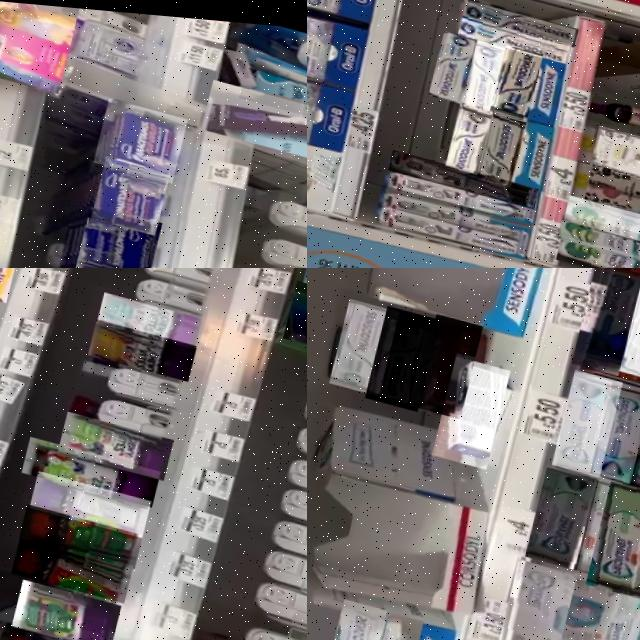Other: (200, 72, 307, 165), (26, 430, 167, 500), (34, 464, 158, 531), (17, 529, 141, 596), (94, 93, 190, 178), (62, 404, 180, 472), (25, 498, 150, 561), (18, 572, 129, 640), (91, 310, 202, 373), (93, 151, 173, 230), (77, 198, 165, 268), (99, 284, 206, 338), (237, 59, 307, 122), (562, 204, 640, 258), (569, 185, 640, 239), (589, 154, 640, 221), (561, 226, 640, 268), (595, 116, 640, 184), (588, 84, 640, 140)
Toothbrush: (377, 196, 535, 257), (378, 179, 541, 237), (393, 144, 546, 202), (389, 161, 540, 218)
Toothpaste: (436, 349, 515, 464), (368, 299, 443, 407), (531, 456, 606, 563), (556, 359, 627, 469), (417, 307, 487, 414), (505, 550, 584, 640), (333, 293, 403, 393), (574, 268, 640, 368), (591, 467, 640, 591), (461, 9, 577, 56), (594, 370, 640, 479), (584, 566, 640, 640), (495, 36, 547, 113), (483, 101, 533, 180), (434, 24, 484, 99), (451, 93, 499, 169), (467, 31, 515, 103), (332, 593, 394, 640), (307, 7, 344, 81), (375, 605, 431, 640), (307, 68, 330, 141)
